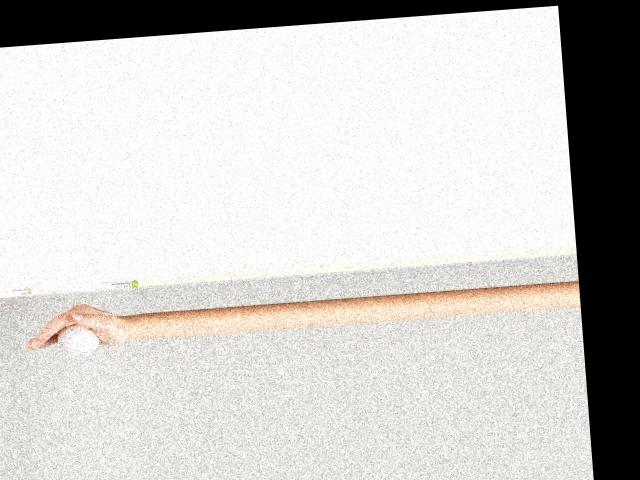egg: (55, 323, 99, 354)
